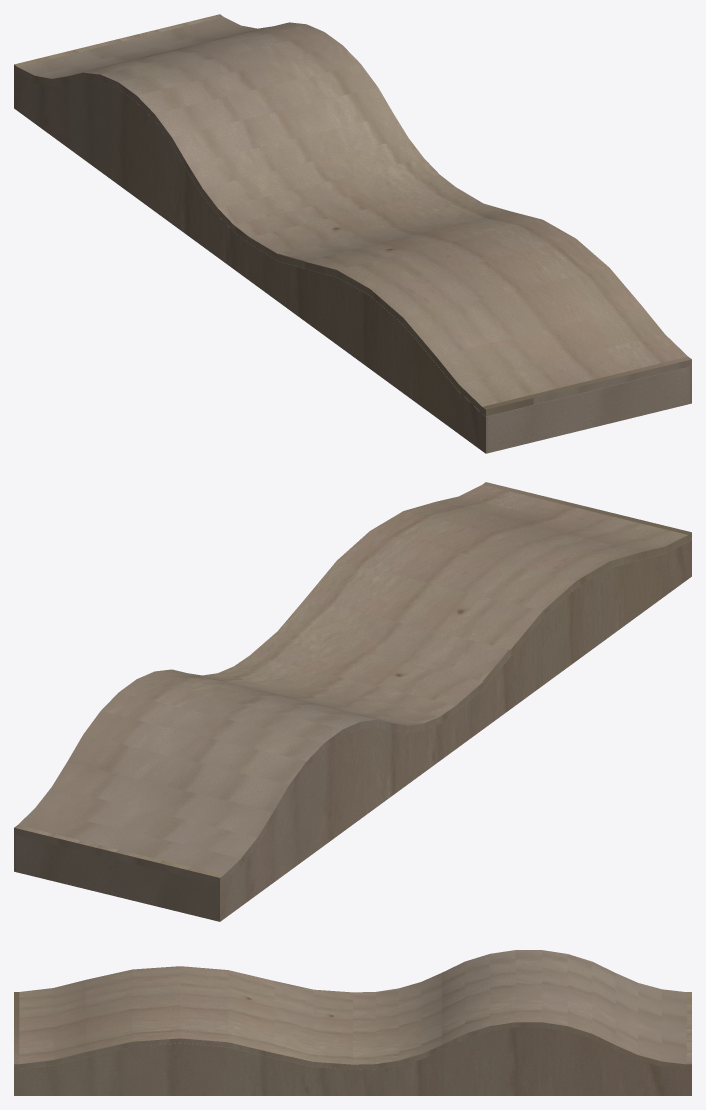
File: Swave.glb
3 views of the same model, one above another, from view 1: azimuth 30°, elevation 25°; view 2: azimuth 150°, elevation 25°; view 3: azimuth 270°, elevation 25° (orthographic). The views are drawn at different scales.
Visible parts, largest first — view 1: Swave; view 2: Swave; view 3: Swave.
Boxes of the visible parts, x1,y1,x2,y2 form: Swave: (14,14,691,453); Swave: (14,482,691,921); Swave: (14,950,691,1095).
Size of the model in its own units: 0.5916 by 0.2816 by 2.35.
1 material, 1 textured.
